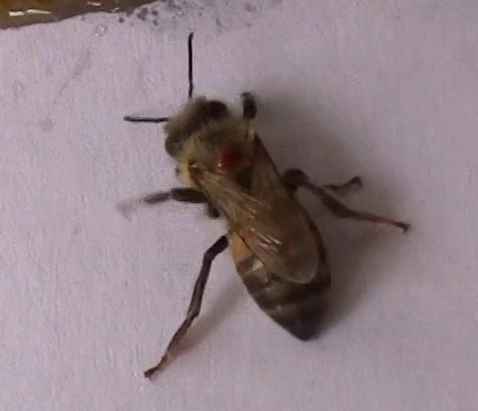Varroa destructor: (212, 140, 248, 174)
